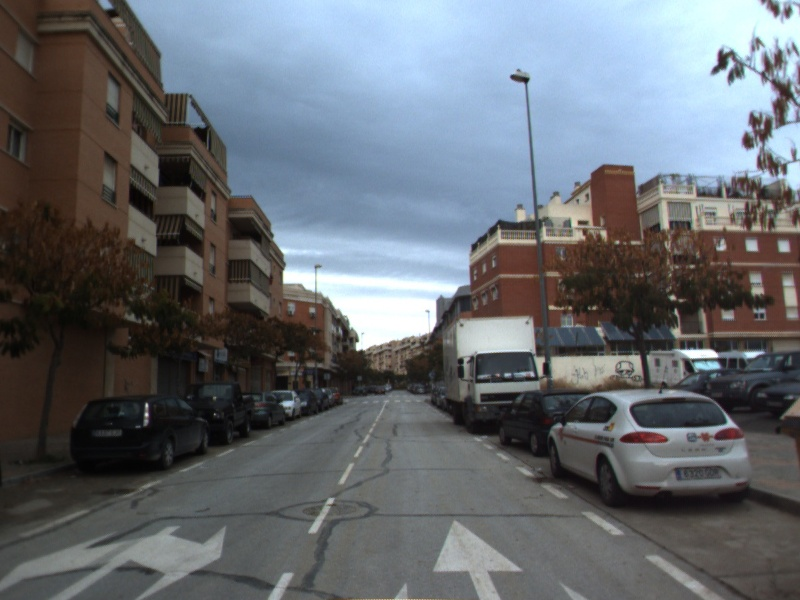STRAIGHT: (427, 508, 529, 600)
